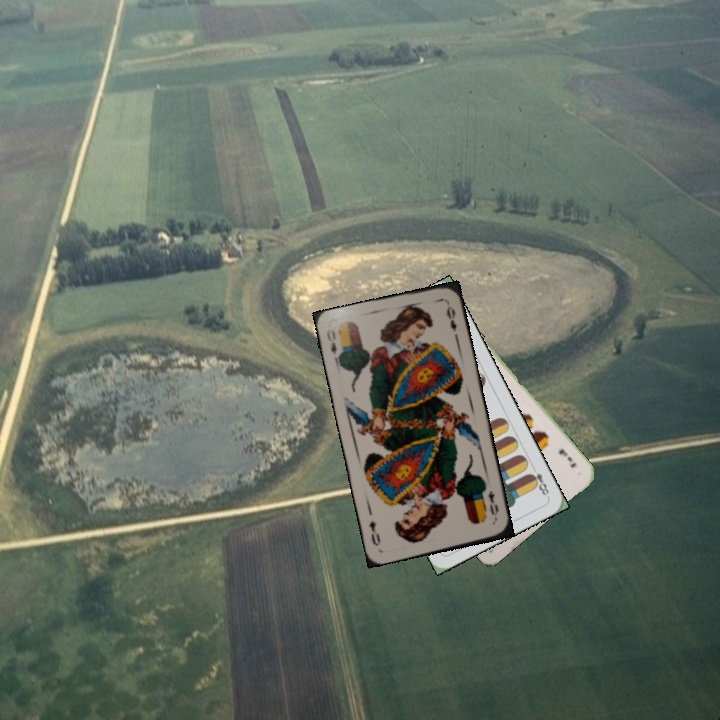E7: (554, 445, 579, 470)
E8: (525, 461, 552, 500)
EO: (322, 325, 345, 365), (483, 487, 501, 523)
